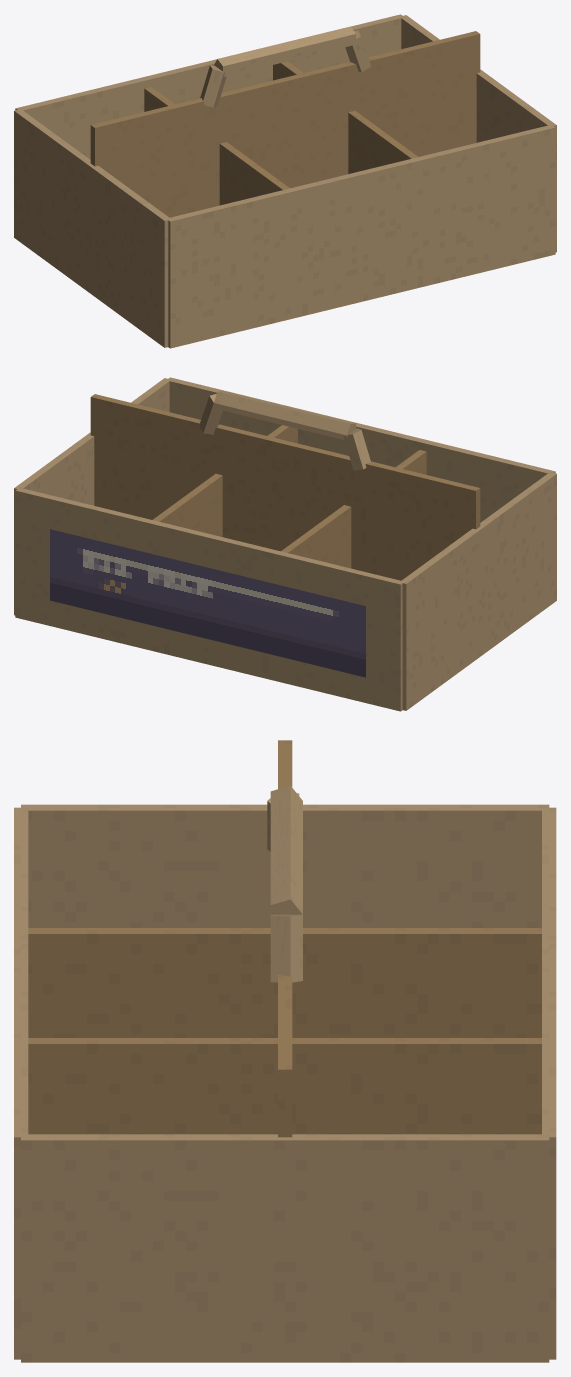
File: six_bottle_box.glb
3 views of the same model, one above another, from view 1: azimuth 30°, elevation 25°; view 2: azimuth 150°, elevation 25°; view 3: azimuth 270°, elevation 25° (orthographic). The views are drawn at different scales.
Visible parts, largest first — view 1: block_long wall 1, block_centre divider, block_short wall -1, block_long wall -1, block_short wall 1, block_slot divider -0.03666666666666667, block_slot divider 0.03666666666666667, block_cutout carry grip 1, block_cutout carry grip 0, block_cutout carry grip 2; view 2: block_centre divider, block_long wall -1, block_side print, block_short wall -1, block_long wall 1, block_short wall 1, block_slot divider -0.03666666666666667, block_slot divider 0.03666666666666667, block_cutout carry grip 1, block_cutout carry grip 0, block_cutout carry grip 2; view 3: block_short wall 1, block_short wall -1, block_slot divider -0.03666666666666667, block_slot divider 0.03666666666666667, block_long wall -1, block_long wall 1, block_cutout carry grip 1, block_centre divider, block_cutout carry grip 2.
Part boxes in pixels (left/top/right/bottom): block_long wall 1: left=168, top=125, right=555, bottom=348; block_centre divider: left=90, top=31, right=480, bottom=217; block_short wall -1: left=14, top=110, right=171, bottom=347; block_long wall -1: left=15, top=14, right=404, bottom=159; block_short wall 1: left=401, top=15, right=556, bottom=252; block_slot divider -0.03666666666666667: left=144, top=87, right=289, bottom=205; block_slot divider 0.03666666666666667: left=273, top=61, right=417, bottom=173; block_cutout carry grip 1: left=214, top=26, right=355, bottom=76; block_cutout carry grip 0: left=200, top=65, right=226, bottom=107; block_cutout carry grip 2: left=345, top=30, right=371, bottom=72; block_centre divider: left=90, top=394, right=480, bottom=580; block_long wall -1: left=15, top=487, right=402, bottom=711; block_side print: left=50, top=529, right=365, bottom=677; block_short wall -1: left=399, top=473, right=556, bottom=710; block_long wall 1: left=167, top=377, right=555, bottom=522; block_short wall 1: left=14, top=378, right=170, bottom=615; block_slot divider -0.03666666666666667: left=281, top=450, right=426, bottom=568; block_slot divider 0.03666666666666667: left=153, top=425, right=297, bottom=536; block_cutout carry grip 1: left=214, top=391, right=355, bottom=439; block_cutout carry grip 0: left=343, top=428, right=370, bottom=470; block_cutout carry grip 2: left=199, top=394, right=223, bottom=434; block_short wall 1: left=21, top=1134, right=549, bottom=1362; block_short wall -1: left=21, top=804, right=549, bottom=927; block_slot divider -0.03666666666666667: left=28, top=928, right=541, bottom=1037; block_slot divider 0.03666666666666667: left=28, top=1038, right=541, bottom=1134; block_long wall -1: left=542, top=807, right=556, bottom=1359; block_long wall 1: left=14, top=807, right=28, bottom=1359; block_cutout carry grip 1: left=270, top=785, right=302, bottom=914; block_centre divider: left=278, top=740, right=292, bottom=1137; block_cutout carry grip 2: left=270, top=914, right=302, bottom=982.
Size of the model in its own units: 0.22 by 0.1078 by 0.1505.
1 material, 1 textured.
